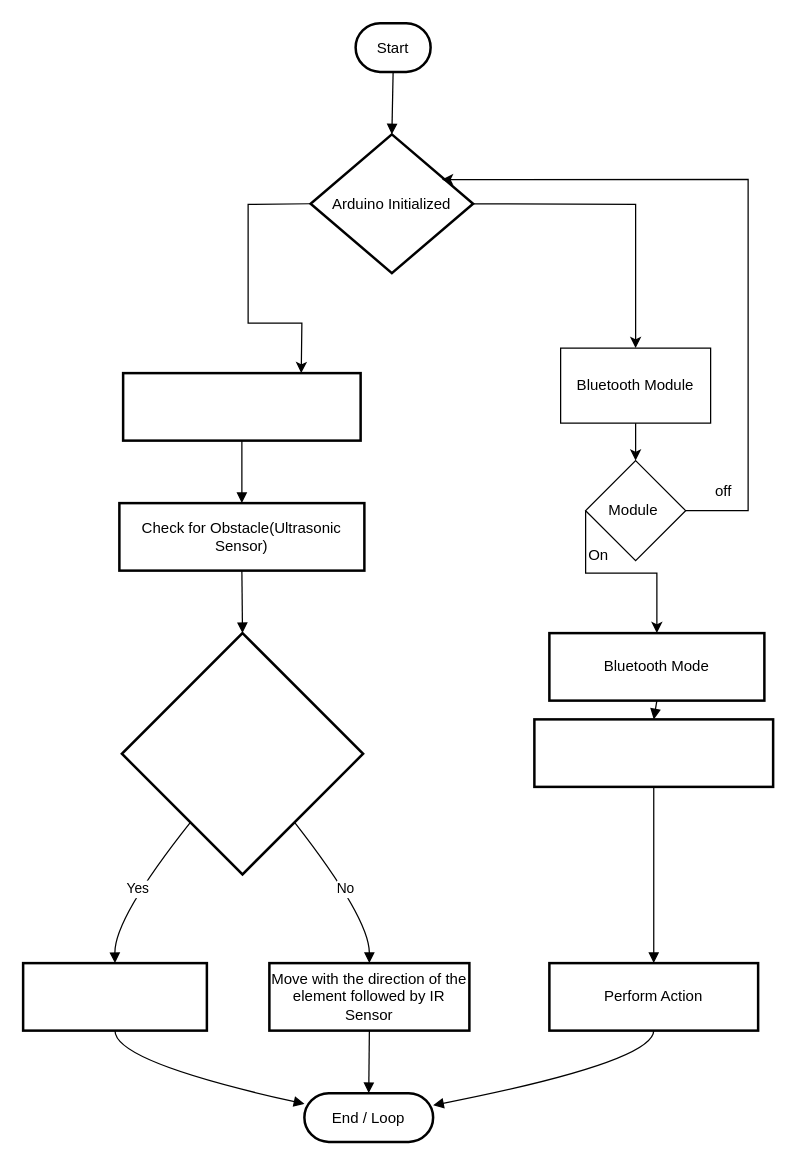
Image size: 795x1164. Some labels were removed from this diagram. The shapes that lost their labels are listed below. From the top down, each one's box as (x1, y1, x2, y2) in pixels, then its label:
(121, 371, 361, 441): L293D Turned ON
(120, 631, 364, 875): Obstacle Detected?
(532, 718, 774, 788): Receive Command
(21, 961, 208, 1031): Turn or Stop
